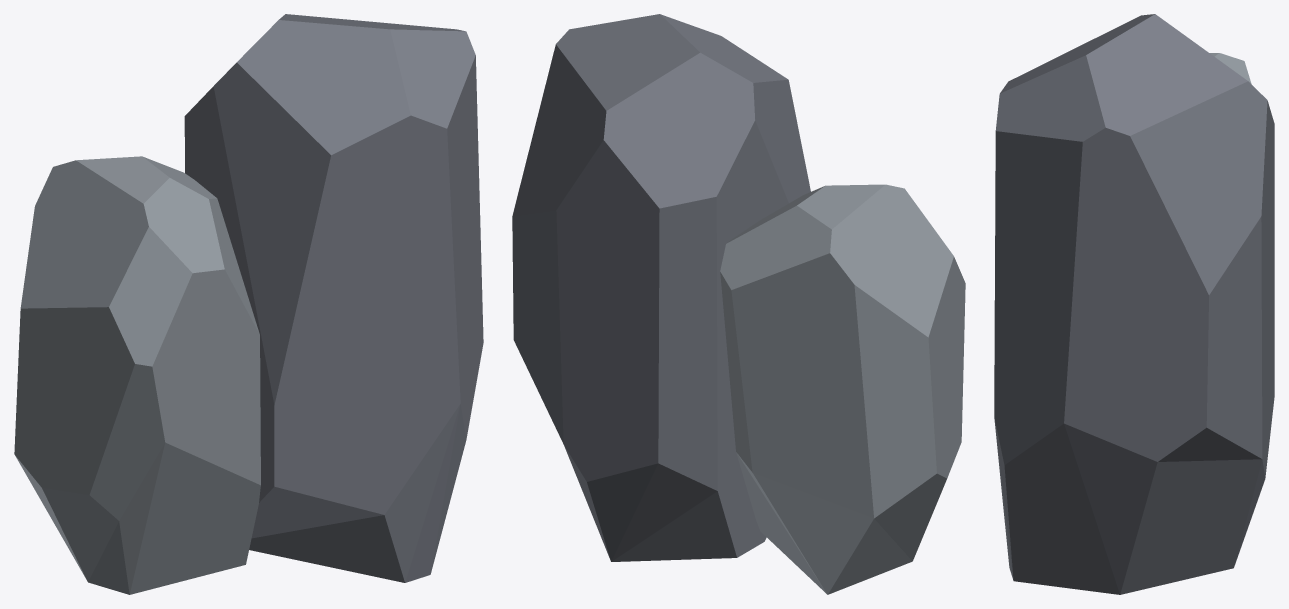
The model's file is Rocks_Round_m_05.fbx.
3 renders of one model, left to right at view 1: azimuth 30°, elevation 25°; view 2: azimuth 150°, elevation 25°; view 3: azimuth 270°, elevation 25°, orthographic. The views are drawn at different scales.
Parts seen in each view (by area): view 1: Rocks_Round_m_05; view 2: Rocks_Round_m_05; view 3: Rocks_Round_m_05.
Boxes of the visible parts, left/top/right/bottom form: Rocks_Round_m_05: left=14, top=14, right=483, bottom=594; Rocks_Round_m_05: left=512, top=14, right=965, bottom=594; Rocks_Round_m_05: left=994, top=14, right=1274, bottom=594.
Bounding box in the file's own units: 1.45 × 1.69 × 0.8132.
